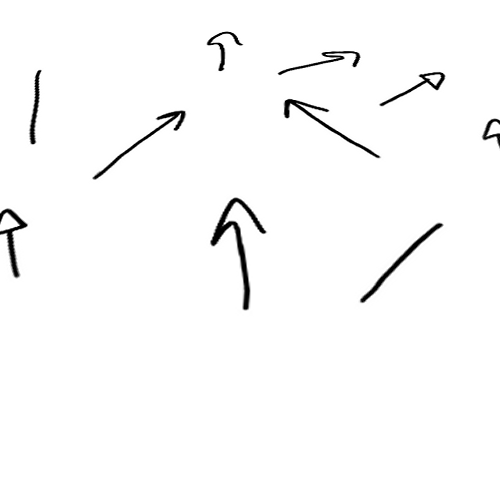arrow: (205, 193, 271, 311), (361, 219, 441, 305), (96, 109, 186, 176), (282, 97, 380, 156), (373, 69, 446, 109), (280, 50, 363, 76), (1, 207, 27, 279), (208, 31, 241, 78), (30, 69, 44, 144)
